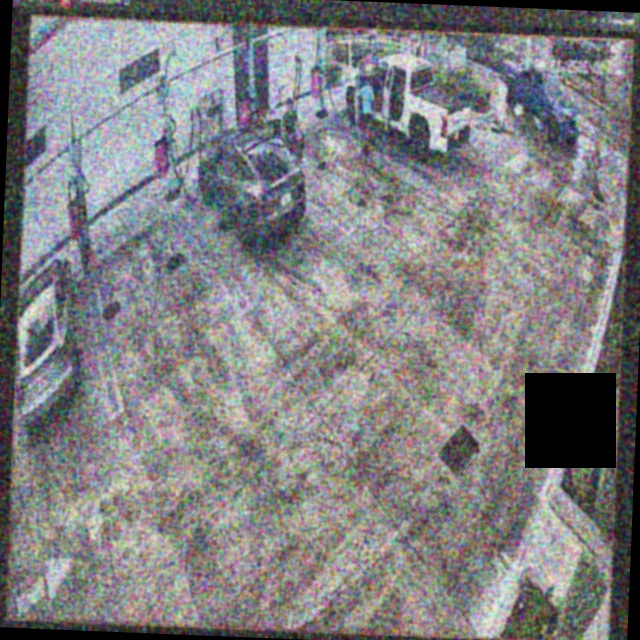Car: (196, 120, 309, 250), (343, 49, 473, 160)
